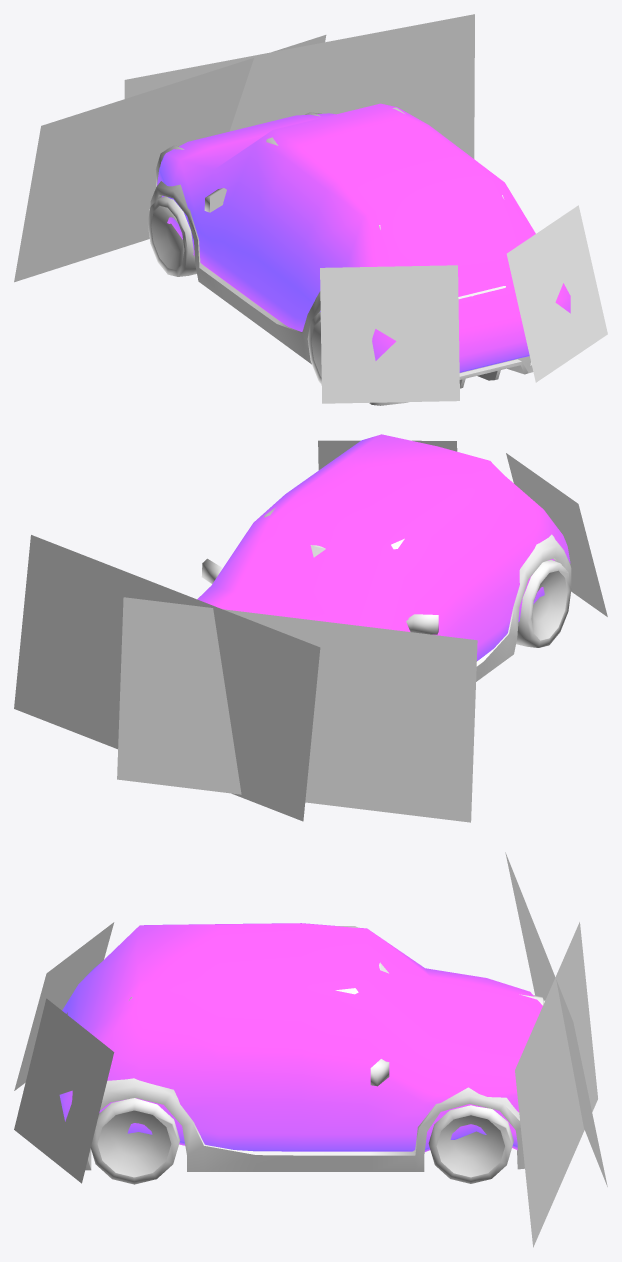
The model's file is MiniCooper.fbx.
3 renders of one model, top to bottom at view 1: azimuth 30°, elevation 25°; view 2: azimuth 150°, elevation 25°; view 3: azimuth 270°, elevation 25°, orthographic. The views are drawn at different scales.
Parts seen in each view (by area): view 1: MiniCooperProxy, MiniCooperFrontLights, MiniCooperRearLights, MiniCooper, MiniCooperWheel_LF, MiniCooperWheel_LB; view 2: MiniCooperFrontLights, MiniCooperProxy, MiniCooperRearLights, MiniCooper, MiniCooperWheel_LB; view 3: MiniCooperProxy, MiniCooperFrontLights, MiniCooperRearLights, MiniCooper, MiniCooperWheel_RB, MiniCooperWheel_RF.
Boxes of the visible parts, x1,y1,x2,y2 form: MiniCooperProxy: [157, 103, 570, 372]; MiniCooperFrontLights: [14, 14, 474, 282]; MiniCooperRearLights: [320, 205, 607, 403]; MiniCooper: [149, 107, 533, 405]; MiniCooperWheel_LF: [147, 196, 196, 276]; MiniCooperWheel_LB: [307, 312, 321, 384]; MiniCooperFrontLights: [14, 535, 477, 822]; MiniCooperProxy: [197, 434, 570, 660]; MiniCooperRearLights: [318, 440, 607, 616]; MiniCooper: [201, 507, 571, 681]; MiniCooperWheel_LB: [516, 560, 571, 647]; MiniCooperProxy: [59, 923, 542, 1151]; MiniCooperFrontLights: [505, 852, 607, 1247]; MiniCooperRearLights: [14, 922, 114, 1183]; MiniCooper: [66, 926, 544, 1171]; MiniCooperWheel_RB: [91, 1098, 180, 1184]; MiniCooperWheel_RF: [428, 1105, 513, 1183].
Size of the model in its own units: 3.82 by 4.17 by 1.5.
